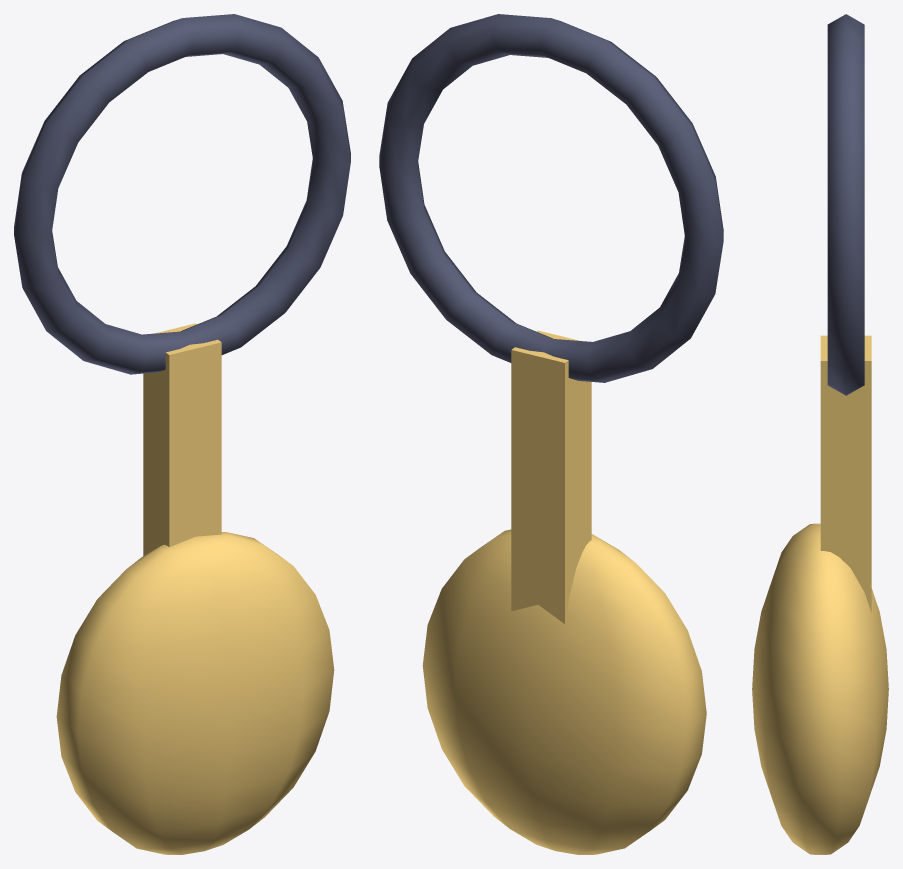
The model's file is FestivalLittleSpoon.fbx.
The picture shows the model from 3 angles, left to right: view 1: azimuth 30°, elevation 25°; view 2: azimuth 150°, elevation 25°; view 3: azimuth 270°, elevation 25°; orthographic projection. The views are drawn at different scales.
Parts seen in each view (by area): view 1: FestivalLittleSpoon Gold__Gold, FestivalLittleSpoon Dark__Dark; view 2: FestivalLittleSpoon Gold__Gold, FestivalLittleSpoon Dark__Dark; view 3: FestivalLittleSpoon Gold__Gold, FestivalLittleSpoon Dark__Dark.
Boxes of the visible parts, x1,y1,x2,y2 form: FestivalLittleSpoon Gold__Gold: [56, 323, 334, 854]; FestivalLittleSpoon Dark__Dark: [14, 14, 350, 374]; FestivalLittleSpoon Gold__Gold: [422, 330, 706, 854]; FestivalLittleSpoon Dark__Dark: [379, 14, 723, 382]; FestivalLittleSpoon Gold__Gold: [752, 335, 888, 854]; FestivalLittleSpoon Dark__Dark: [827, 14, 864, 395].
Bounding box in the file's own units: 45 × 105 × 16.
